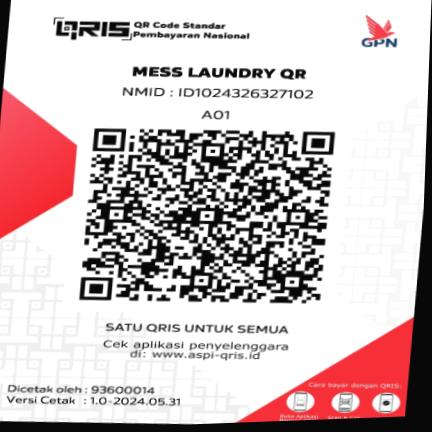Qris-Positioning: (0, 0, 431, 424)
